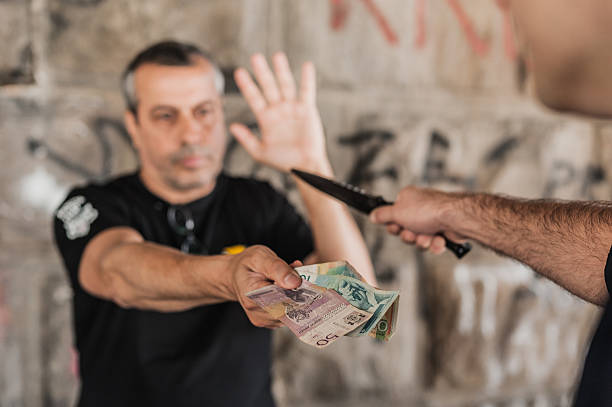knife: (287, 167, 473, 260)
